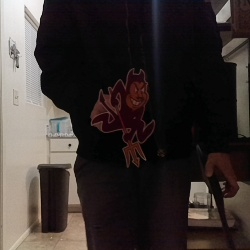sparky: (90, 67, 155, 168)
